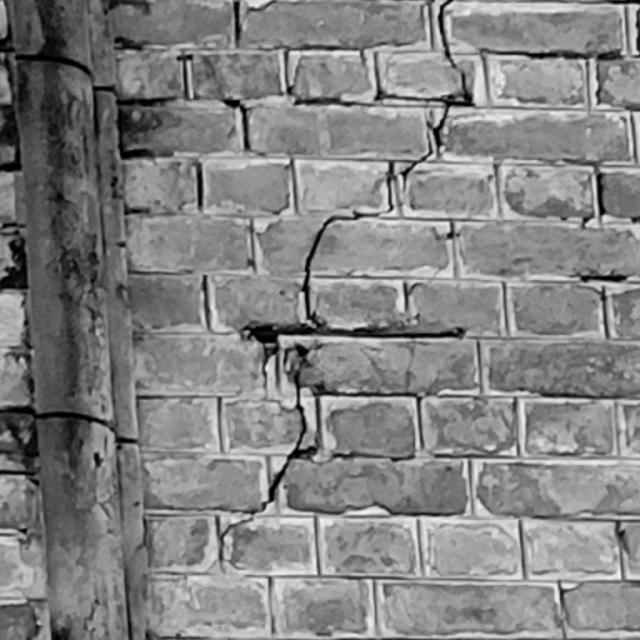crack: (217, 1, 476, 570)
